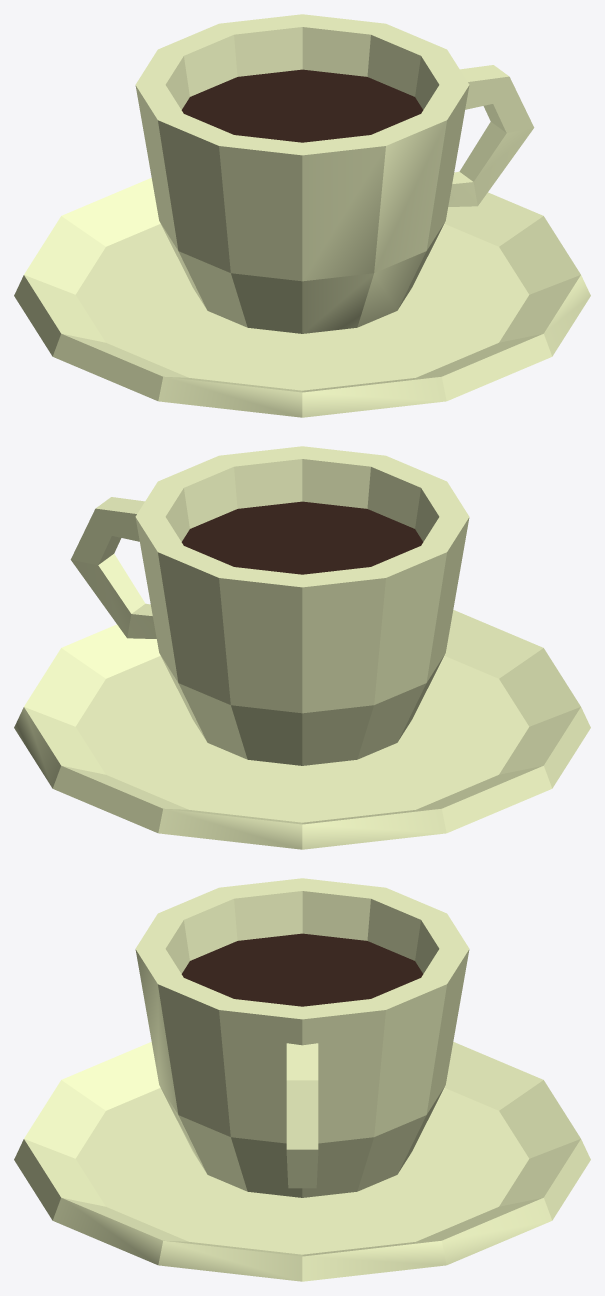
File: cafecito.fbx
3 views of the same model, one above another, from view 1: azimuth 30°, elevation 25°; view 2: azimuth 150°, elevation 25°; view 3: azimuth 270°, elevation 25° (orthographic).
Visible parts, largest first — view 1: coffe; view 2: coffe; view 3: coffe.
Part boxes in pixels (x1,y1,x2,y2): coffe: (14, 14, 590, 417); coffe: (14, 446, 590, 849); coffe: (14, 878, 590, 1281).
Size of the model in its own units: 17.88 by 7.94 by 17.88.
